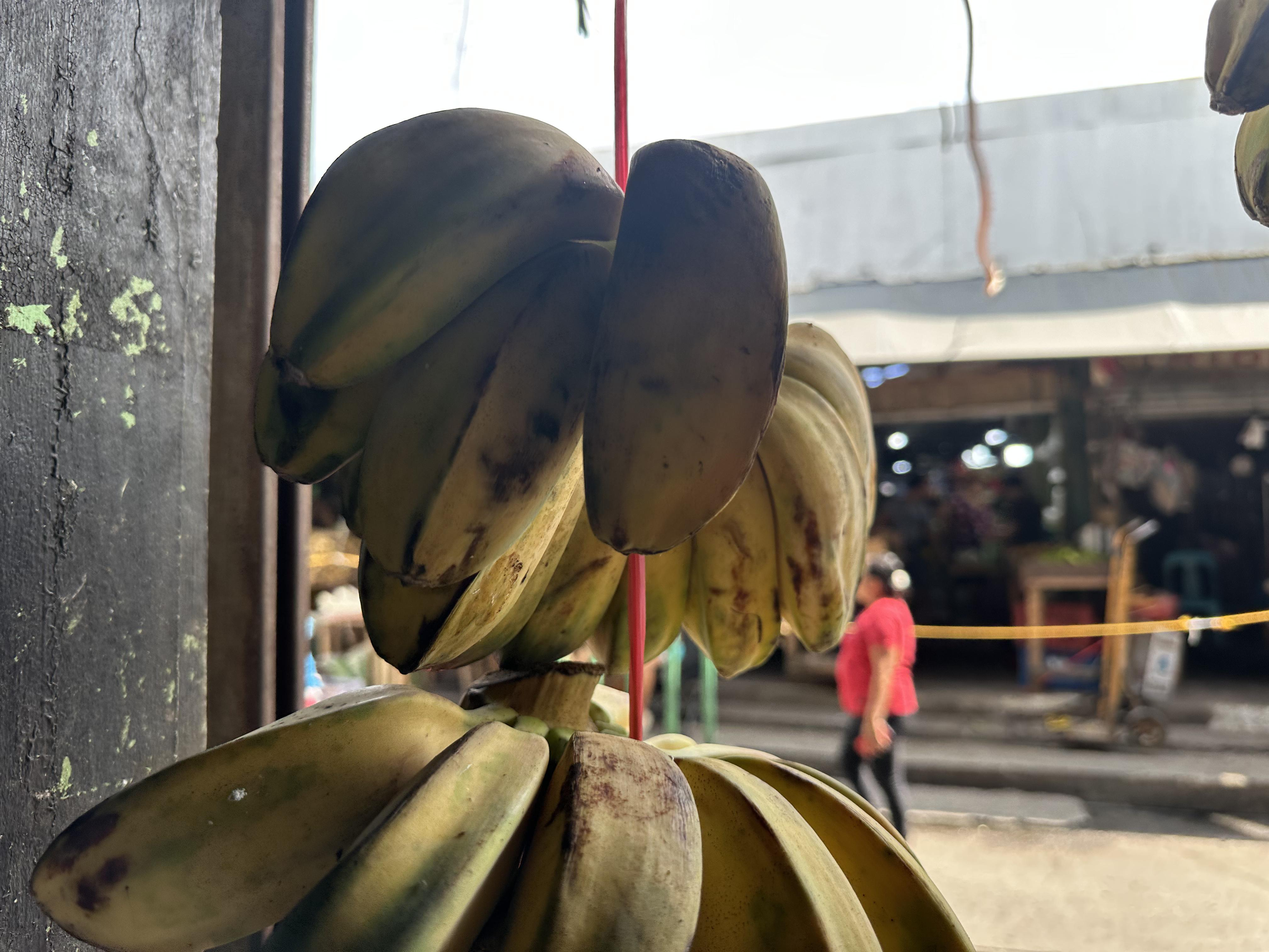ripe: (643, 320, 875, 677)
underripe: (249, 109, 791, 673), (26, 684, 978, 952)
